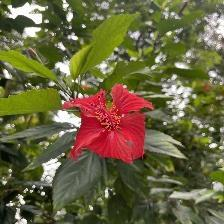hibiscus: (63, 84, 156, 165)
